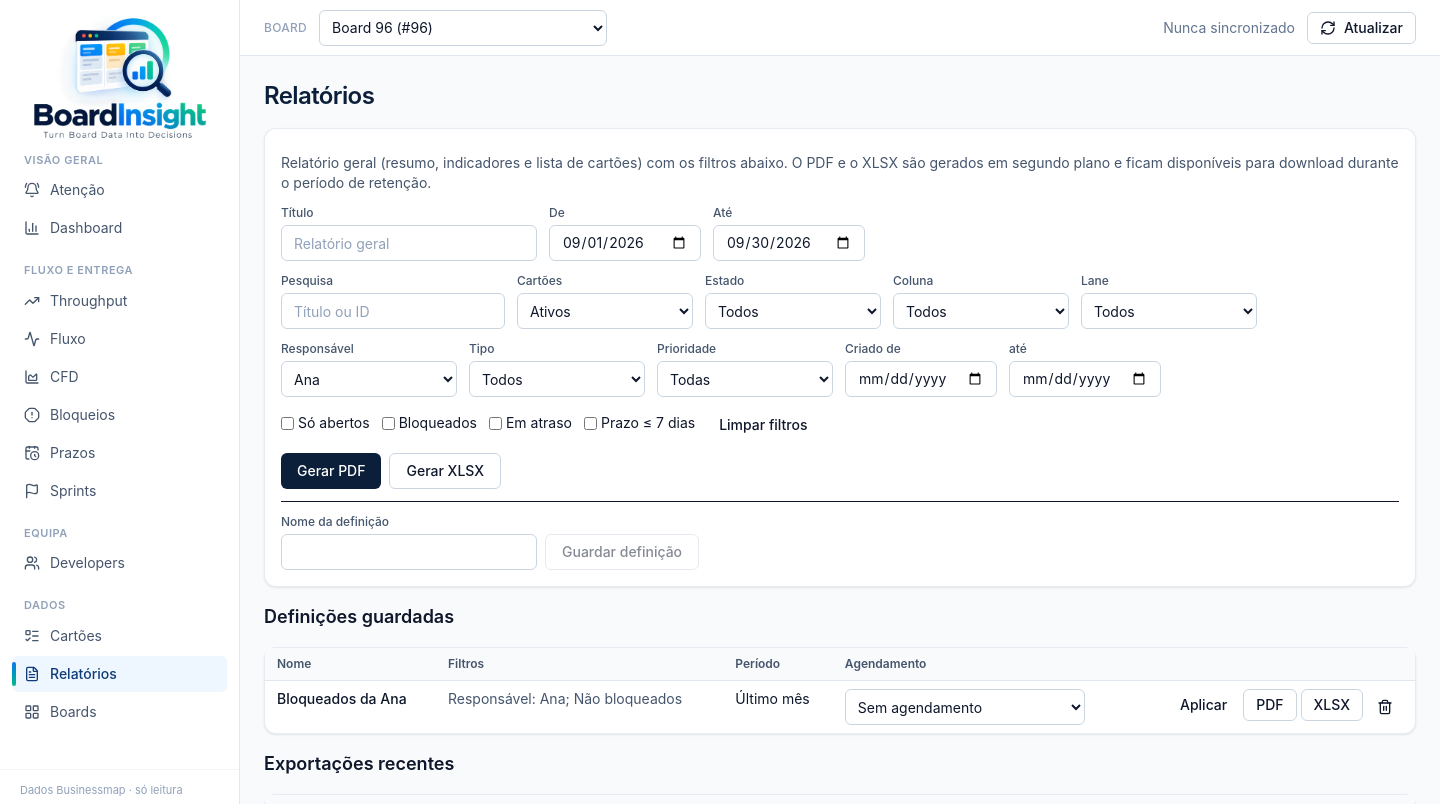
Test: lista exportações e gera PDF com os filtros e o período do URL
Click the button "Gerar PDF" at (331, 471), box [281,453,382,489]
(page scrolled)
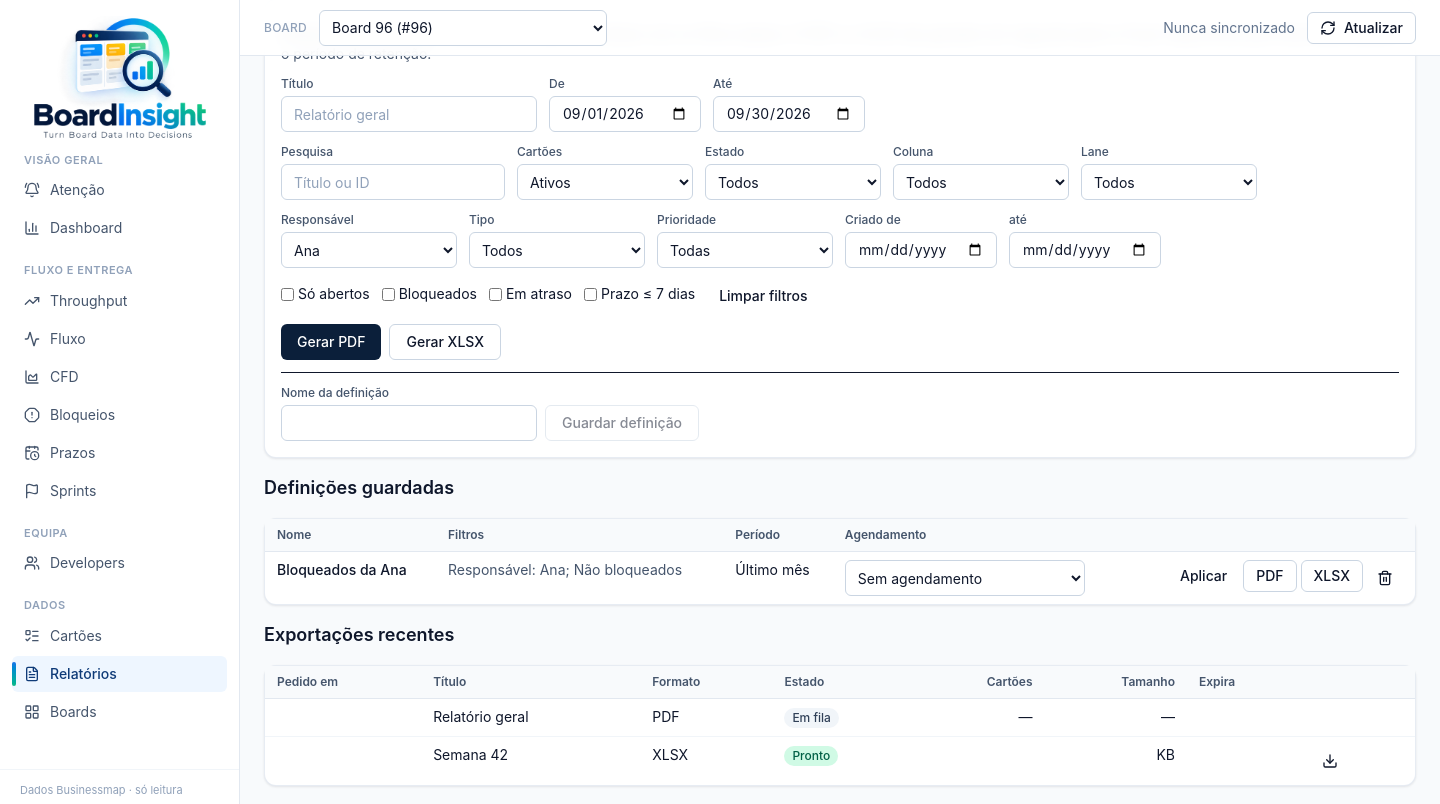
Now the text "Em fila" is shown, box [784,708,839,728]
